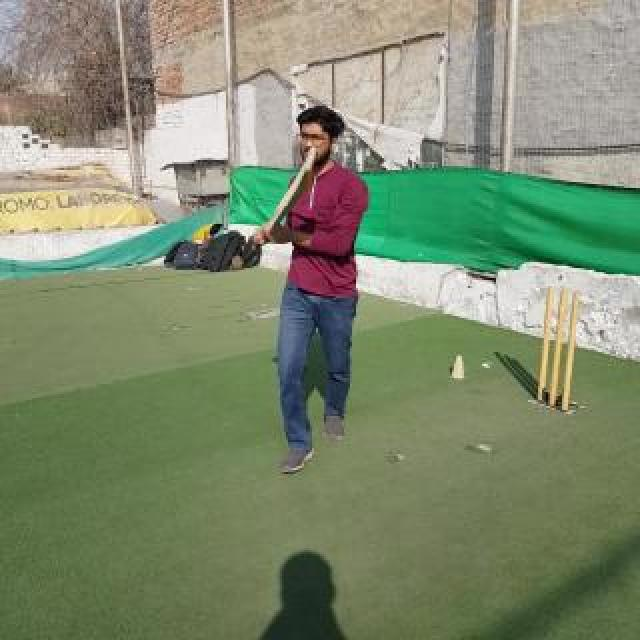bat: (252, 148, 318, 252)
